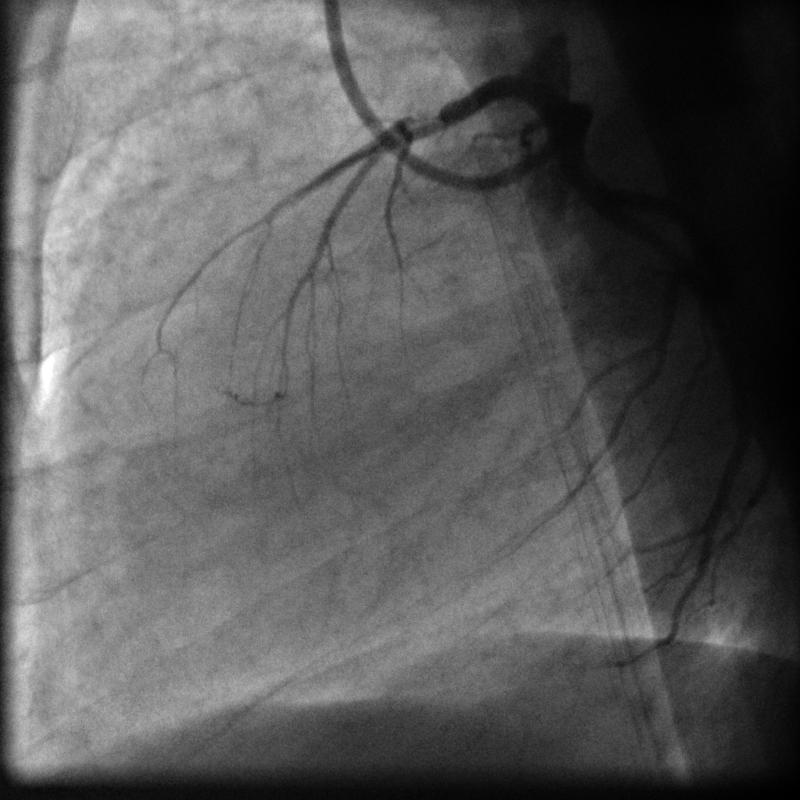Stenosis: (395, 100, 455, 148)
